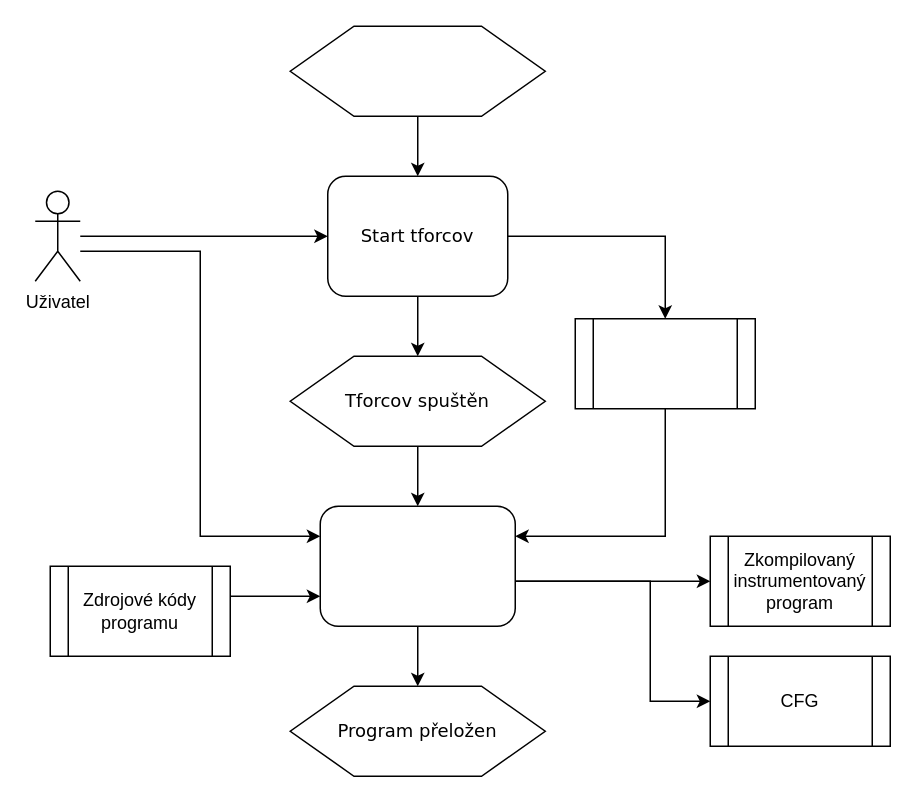
Some shapes in this 917 by 803 pixel diagram are drawn without their labels. The centre of each missing label's shape, as x and y in pixels:
"Potřeba kompilace s instrumentací" goes at (x=417, y=70).
"Překlad (clang++)" goes at (x=417, y=565).
"Wrapper překladače" goes at (x=664, y=363).
